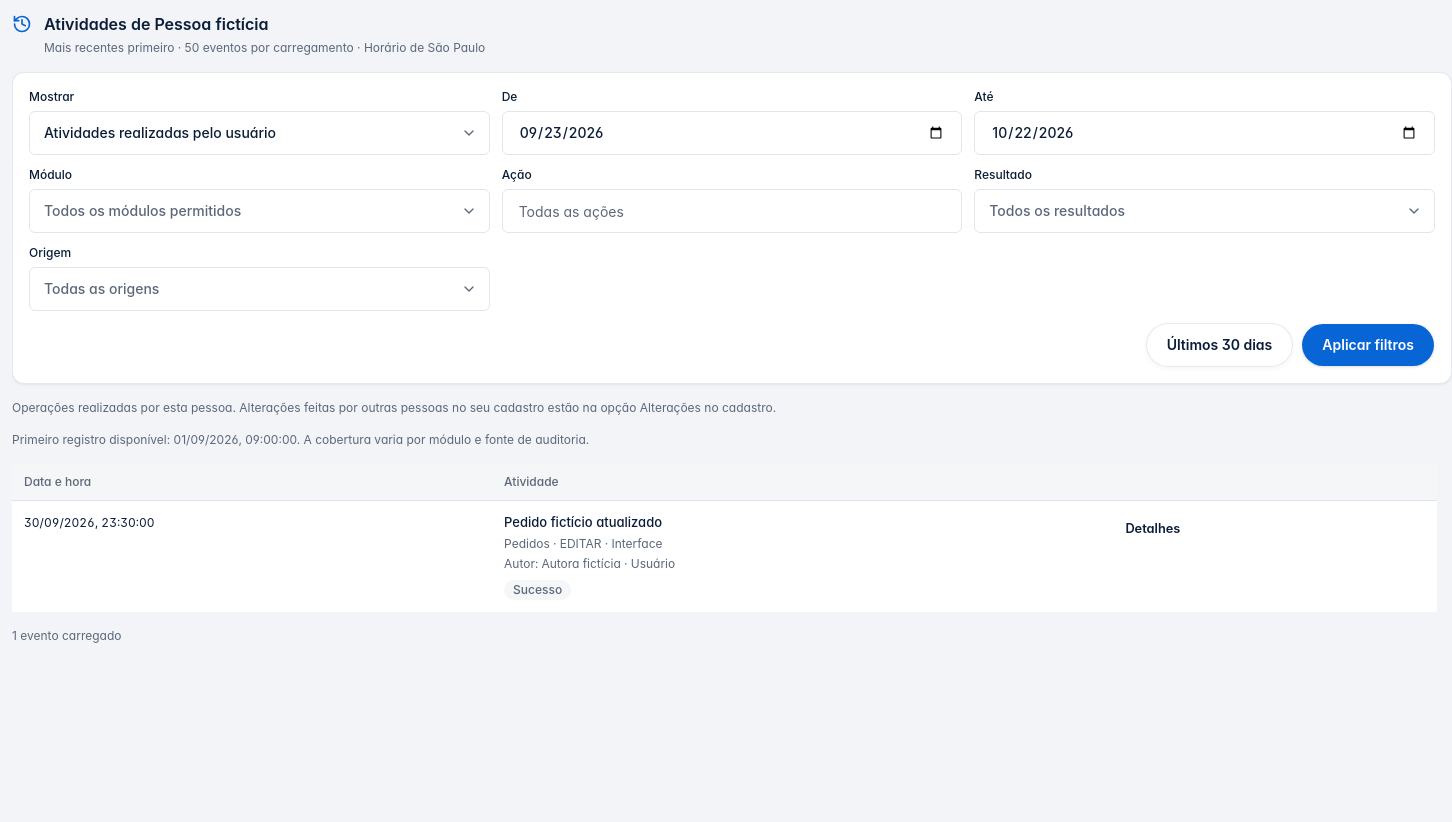
Test: aba de atividades por usuário › limita o campo de ação e não consulta período invertido
The width and height of the screenshot is (1452, 822).
Expected: the text "Pedido fictício atualizado" is shown, left=504, top=514, right=662, bottom=530
Type "EDITAR<script>" into the field labelled "Ação".
click(732, 211); type("EDITAR<script>")  # box left=502, top=189, right=962, bottom=233
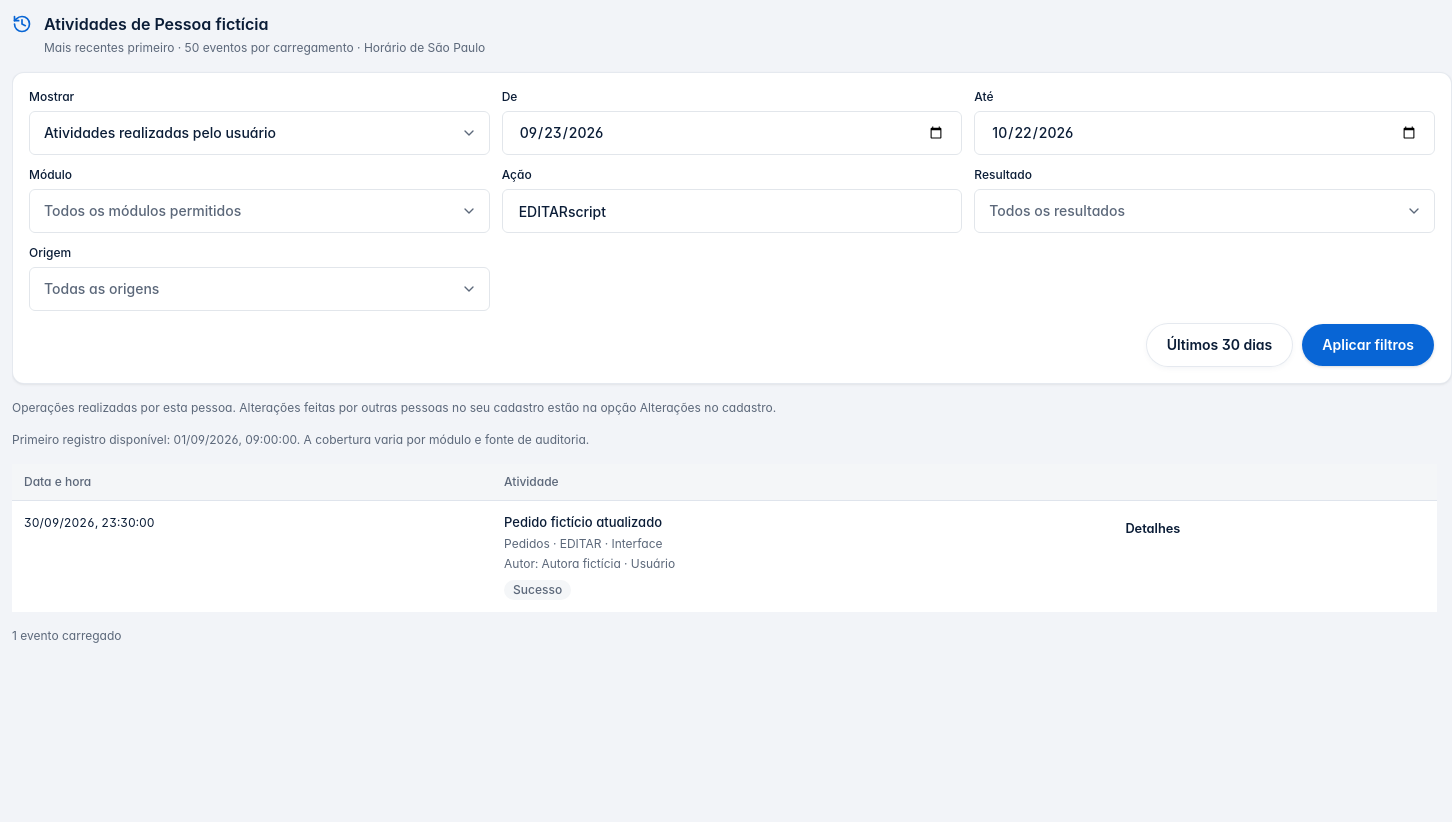
Now the field labelled "Ação" holds "EDITARscript", box left=502, top=189, right=962, bottom=233
Type "2026-12-31" into the date field labelled "De".
click(732, 133); type("2026-12-31")  # box left=502, top=111, right=962, bottom=155
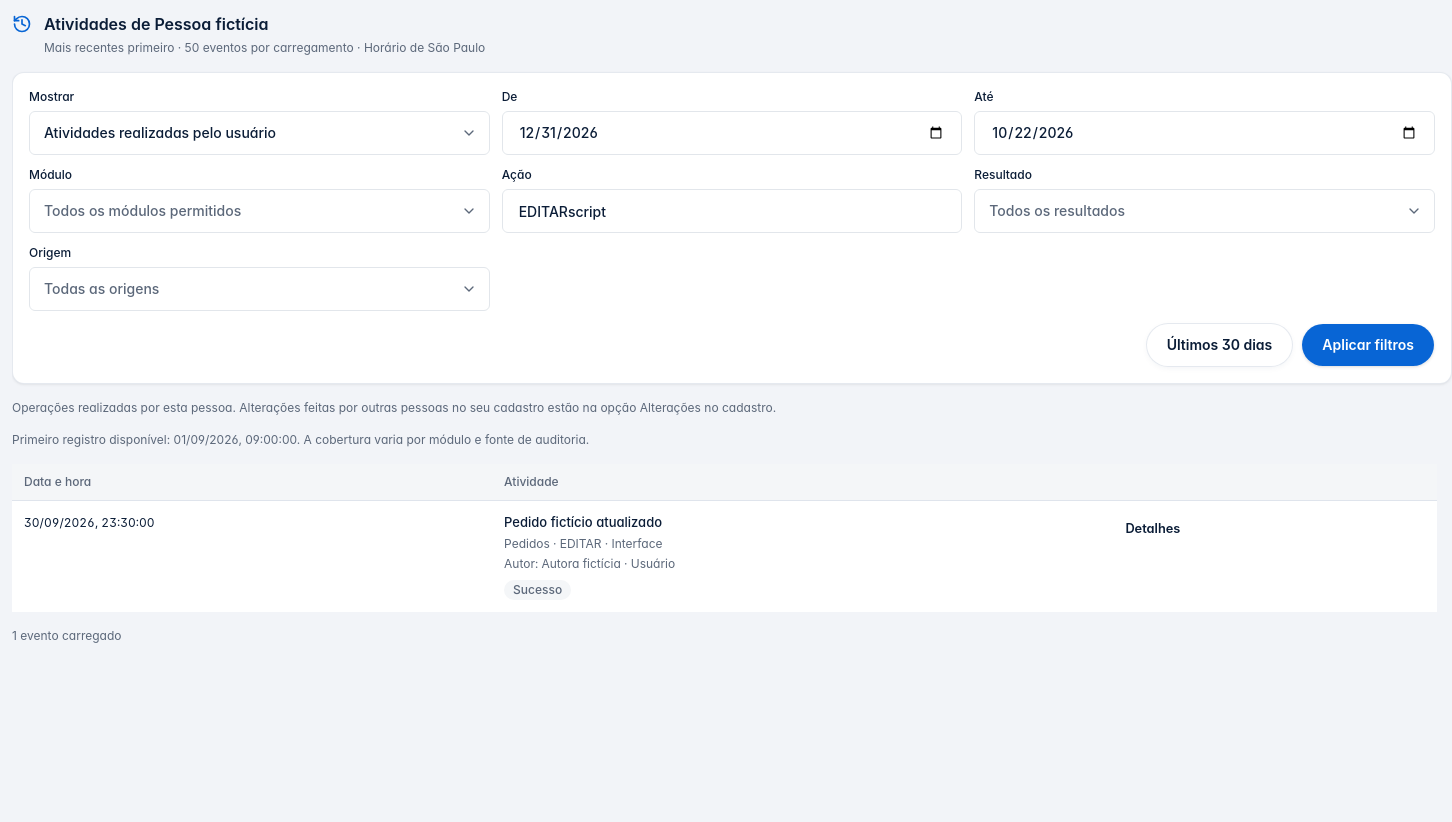
Type "2026-01-01" into the date field labelled "Até".
click(1205, 133); type("2026-01-01")  # box left=974, top=111, right=1435, bottom=155
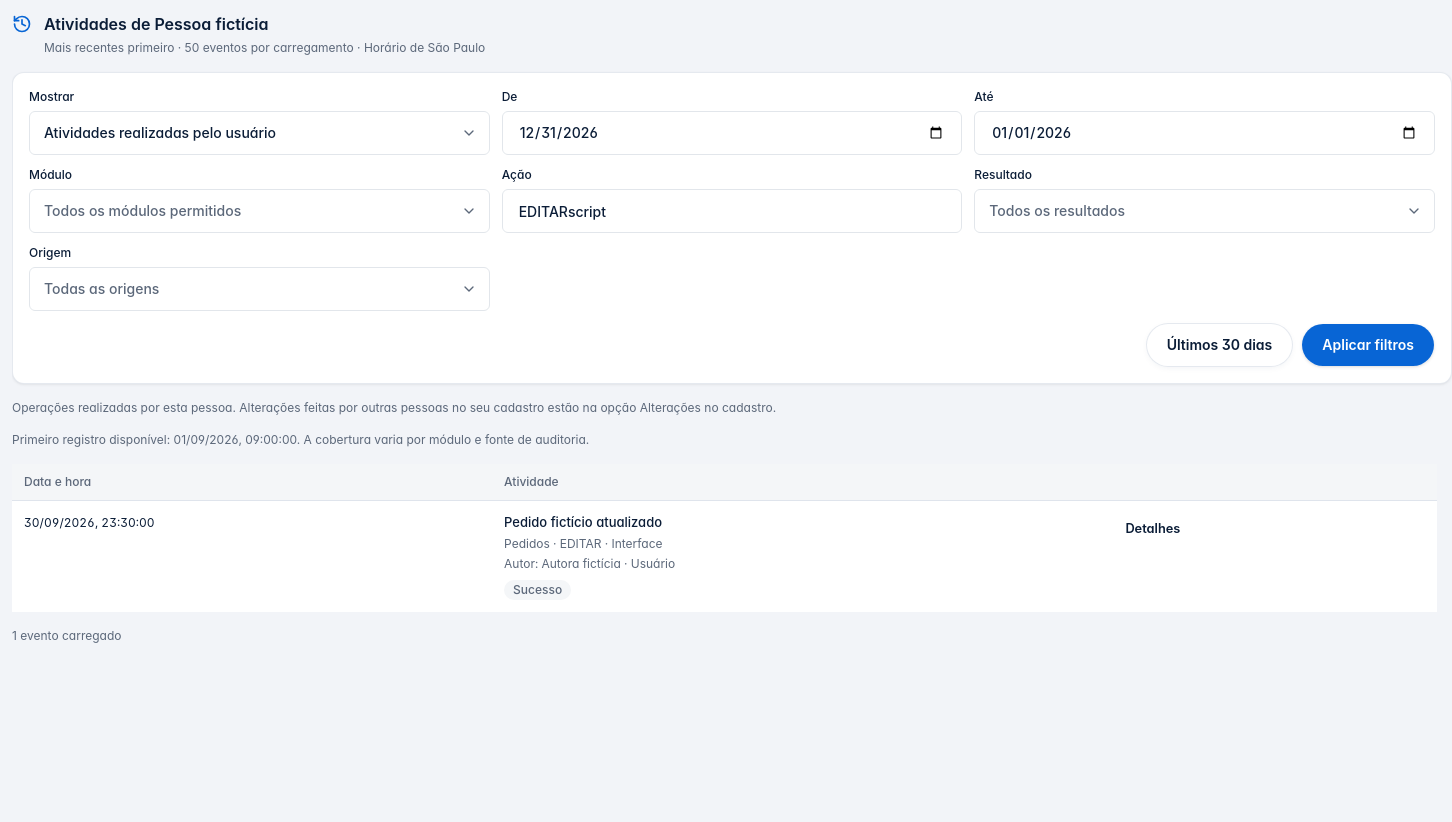
Submit the form named "Filtros de atividades", box left=29, top=89, right=1435, bottom=367
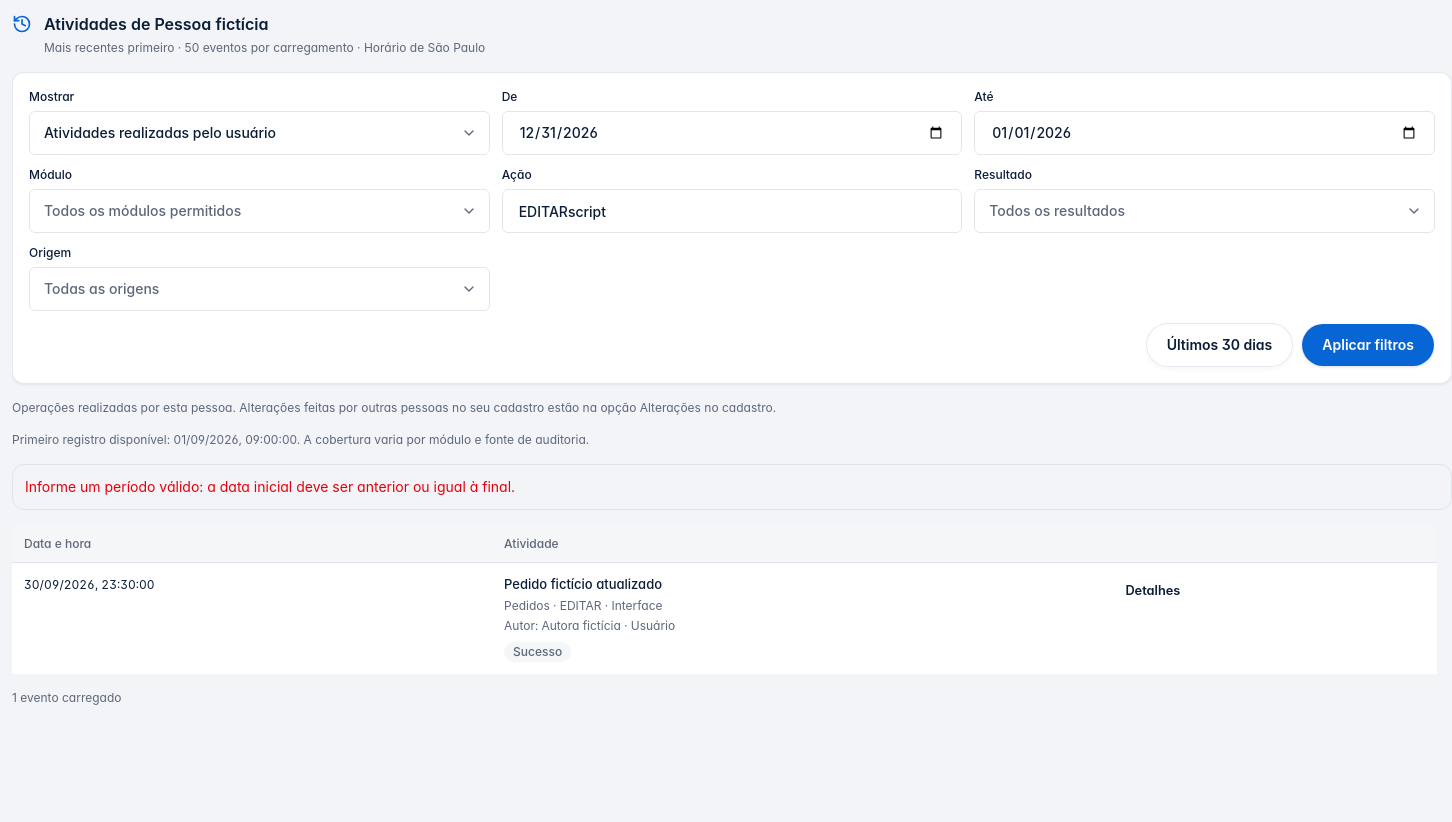
Now the message shows "período válido", box left=25, top=478, right=515, bottom=495
